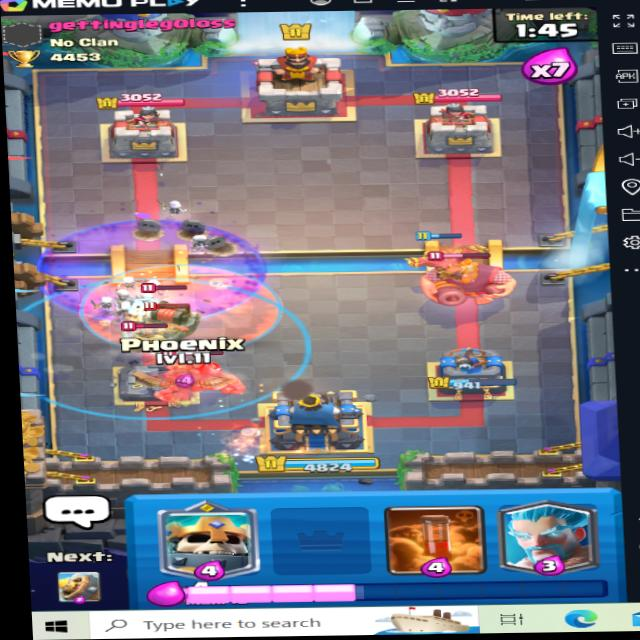electro-barbarians: (123, 315, 172, 351)
golem: (151, 351, 255, 413)
royal-giant: (411, 251, 518, 307)
royal-recruits: (148, 310, 202, 357)
sparky: (131, 275, 205, 337)
